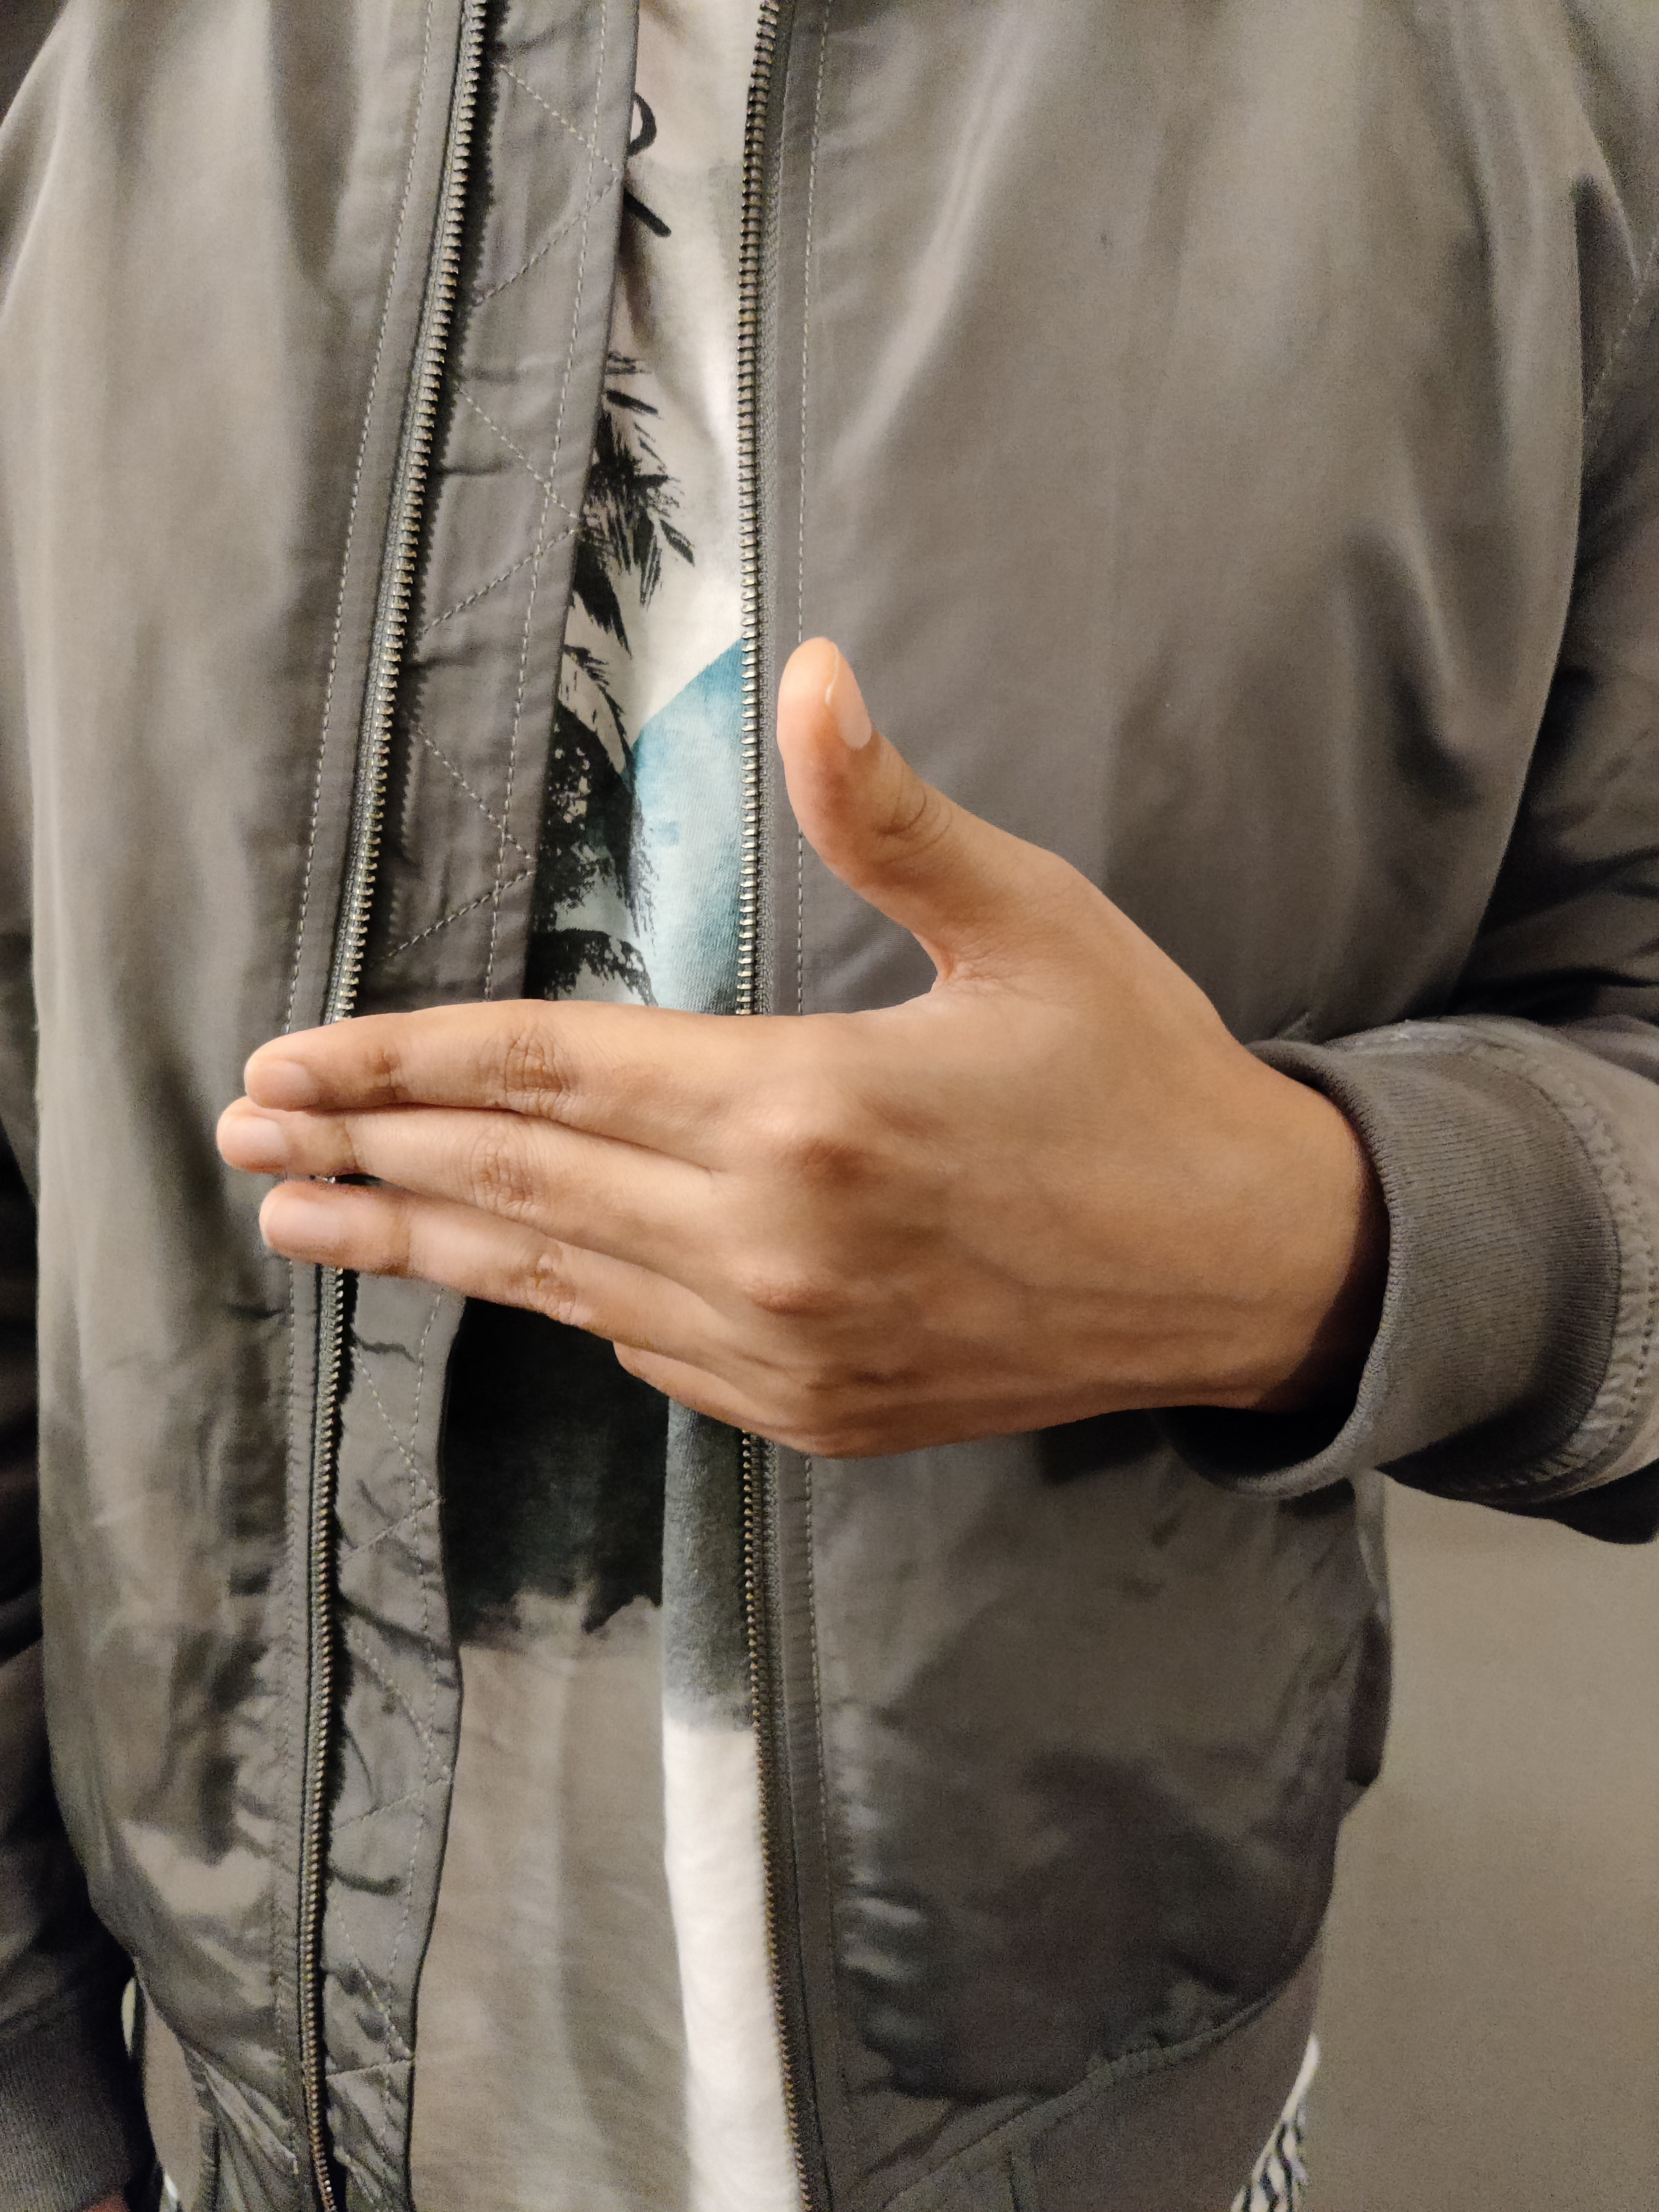right: (94, 611, 1556, 1642)
